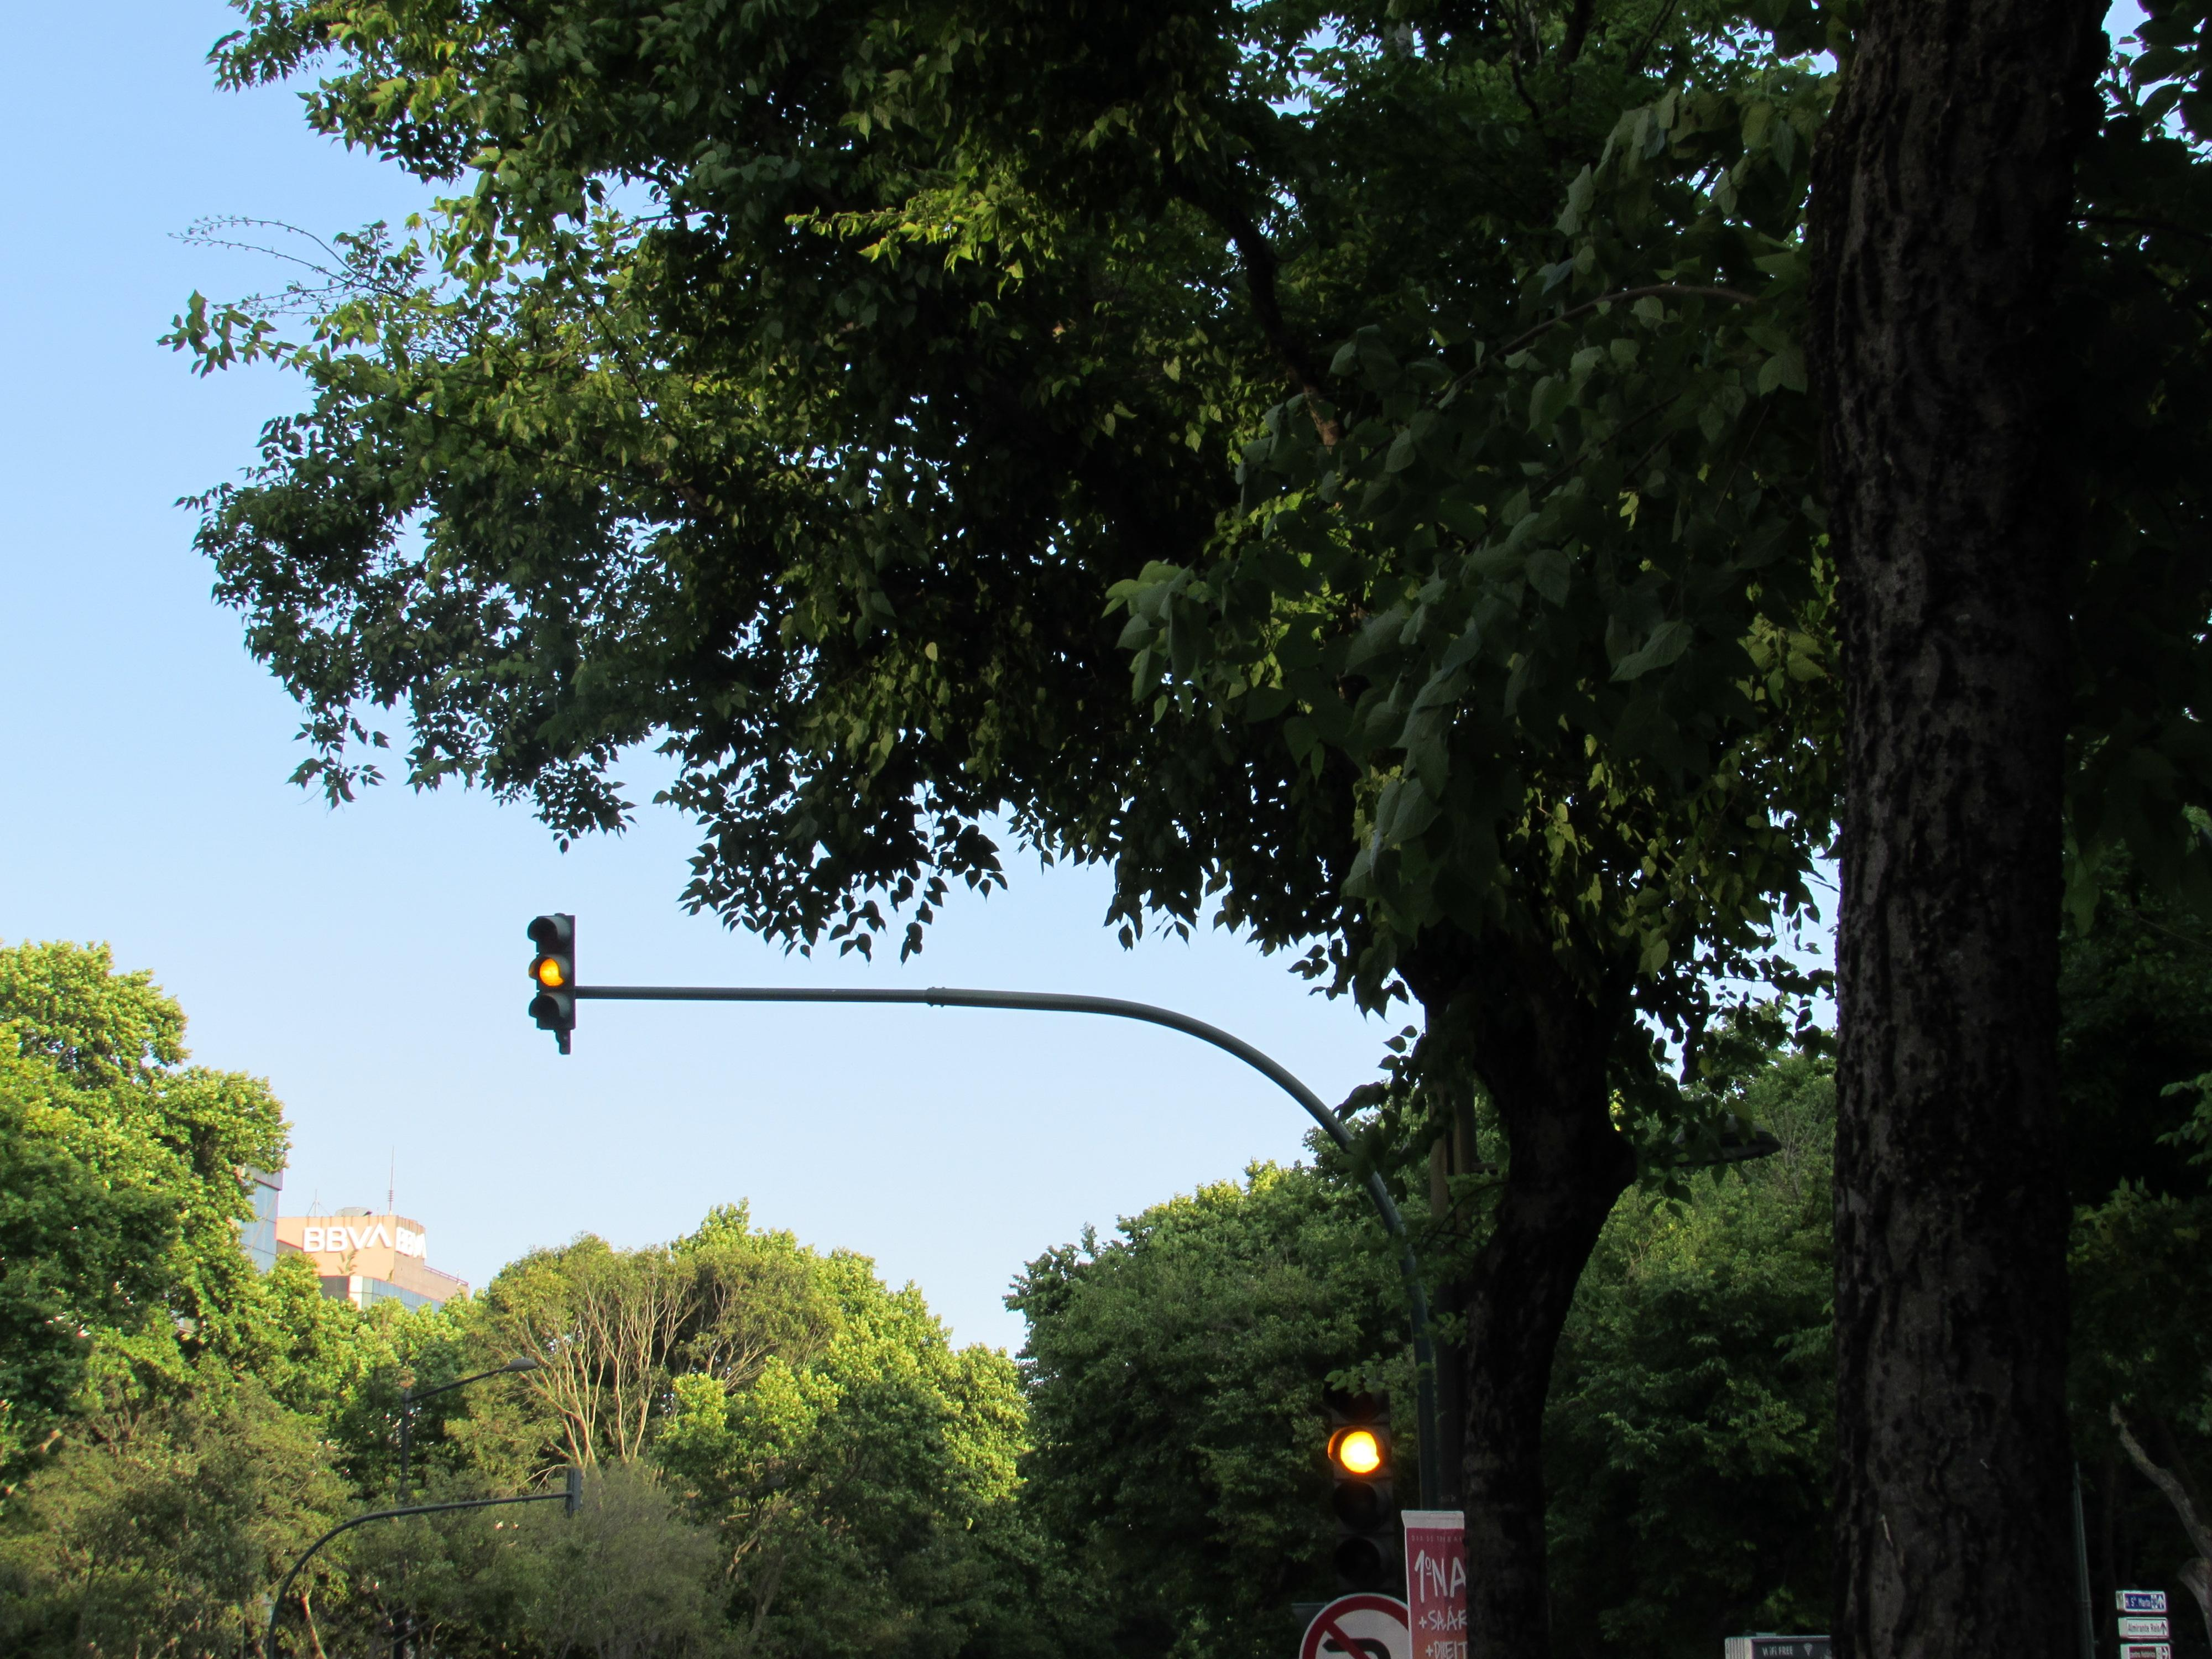yellow_light: (1322, 1364, 1395, 1532), (528, 915, 575, 1030)
